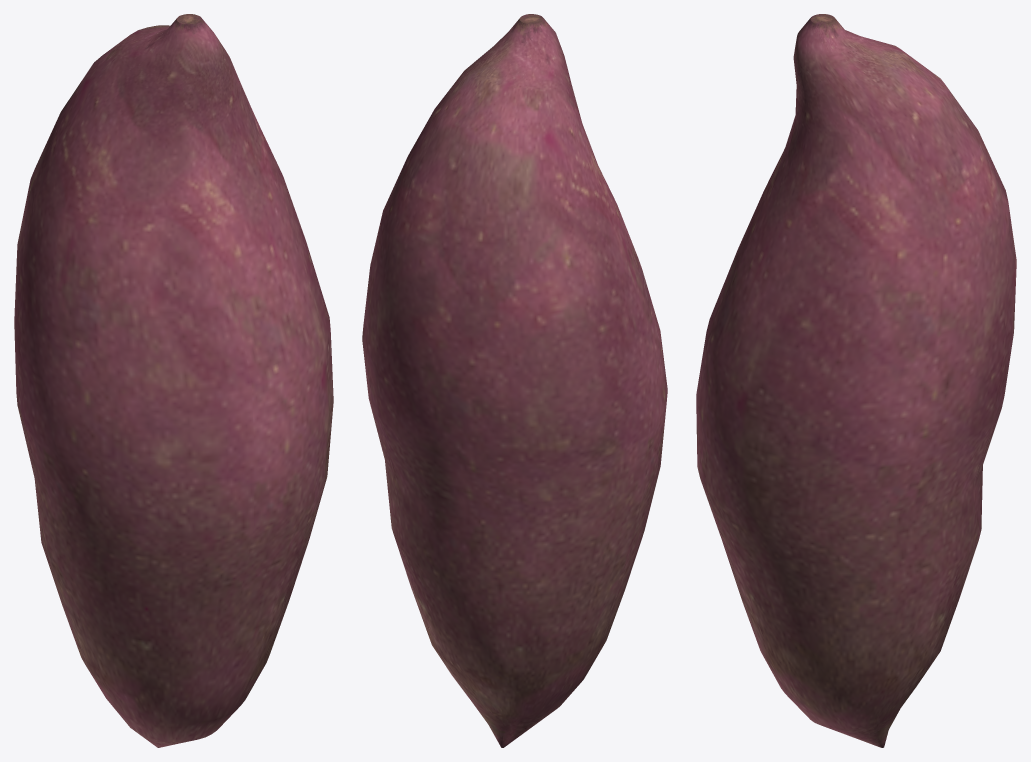
Rendered from sweet_potato.glb.
The picture shows the model from 3 angles, left to right: view 1: azimuth 30°, elevation 25°; view 2: azimuth 150°, elevation 25°; view 3: azimuth 270°, elevation 25°; orthographic projection. The views are drawn at different scales.
Visible parts, largest first — view 1: SM_Sweet_Potato; view 2: SM_Sweet_Potato; view 3: SM_Sweet_Potato.
Boxes of the visible parts, left/top/right/bottom form: SM_Sweet_Potato: left=14, top=14, right=333, bottom=747; SM_Sweet_Potato: left=362, top=14, right=667, bottom=747; SM_Sweet_Potato: left=696, top=14, right=1016, bottom=747.
Size of the model in its own units: 0.0321 by 0.0829 by 0.0331.
Materials: 1 (1 with a texture image).
